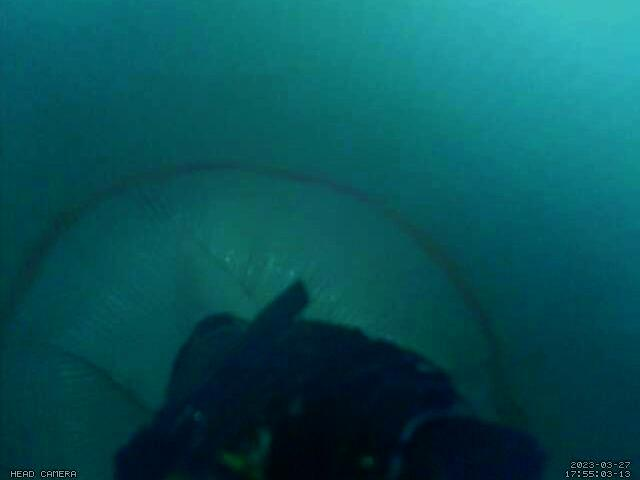head: (0, 162, 527, 432)
